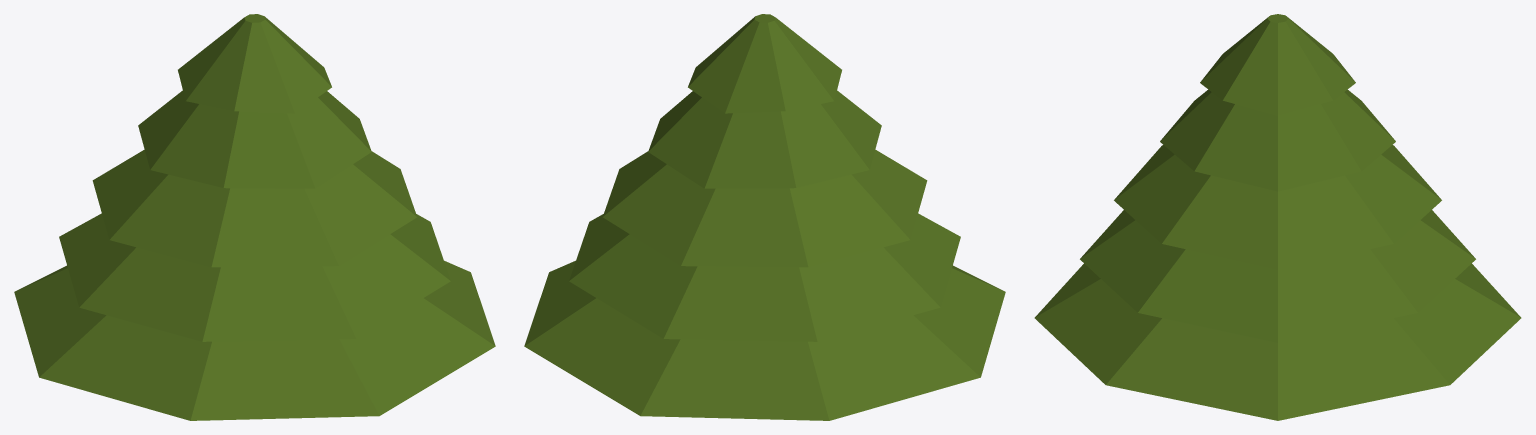
File: Swierk.fbx
The picture shows the model from 3 angles, left to right: view 1: azimuth 30°, elevation 25°; view 2: azimuth 150°, elevation 25°; view 3: azimuth 270°, elevation 25°; orthographic projection. The views are drawn at different scales.
Visible parts, largest first — view 1: Swierk; view 2: Swierk; view 3: Swierk.
Boxes of the visible parts, <box> form: Swierk: <box>14,14,495,420</box>; Swierk: <box>524,14,1005,420</box>; Swierk: <box>1034,14,1521,420</box>.
Size of the model in its own units: 301 by 237 by 301.
